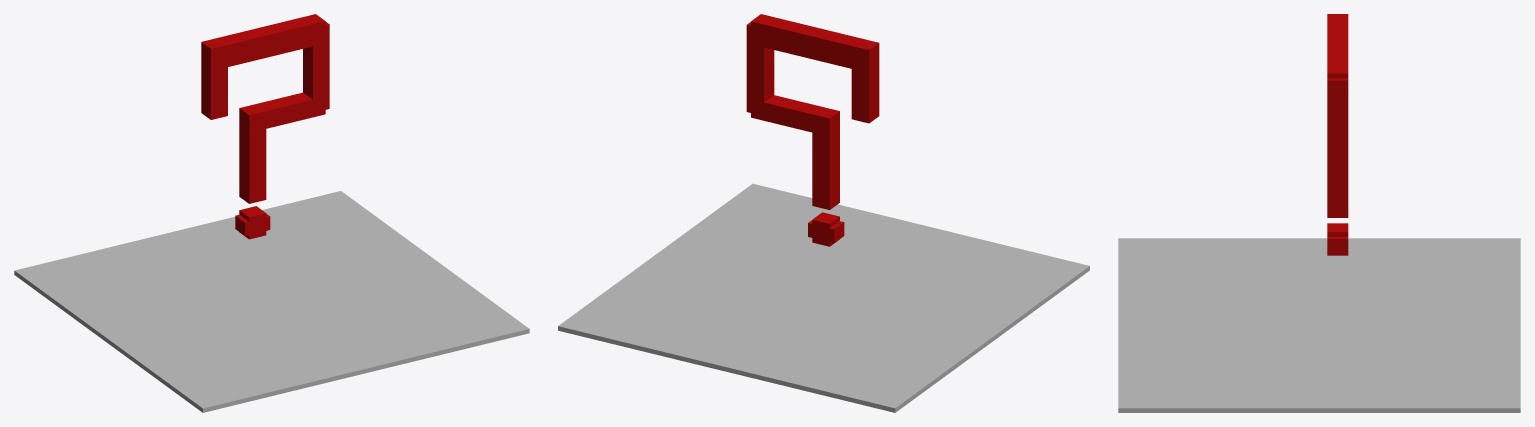
The model's file is question_mark.glb.
The picture shows the model from 3 angles, left to right: view 1: azimuth 30°, elevation 25°; view 2: azimuth 150°, elevation 25°; view 3: azimuth 270°, elevation 25°; orthographic projection. The views are drawn at different scales.
Visible parts, largest first — view 1: Object_2; view 2: Object_2; view 3: Object_2.
Part boxes in pixels (<box>): Object_2: <box>14,14,529,412</box>; Object_2: <box>558,14,1089,412</box>; Object_2: <box>1118,14,1520,412</box>.
Bounding box in the file's own units: 77 × 60 × 77.
1 material, 1 textured.
